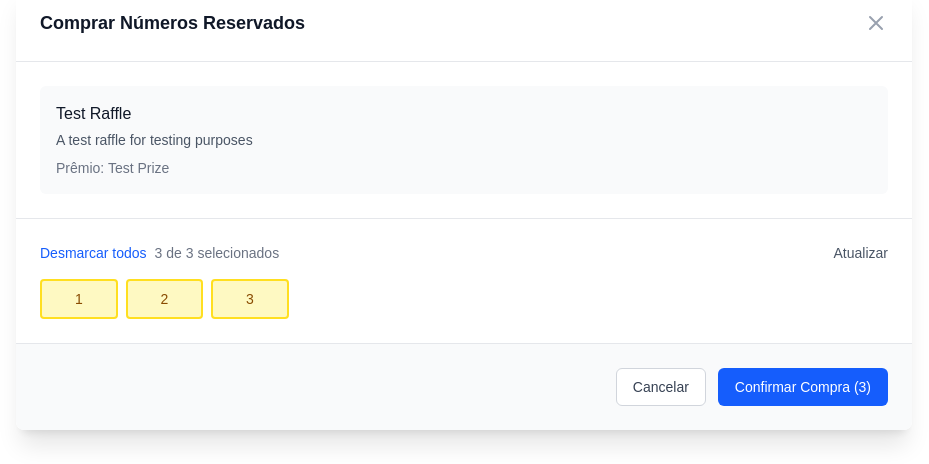
RafflePurchaseModal › should allow deselecting all numbers
Expected: the text "3 de 3 selecionados" is shown, [155, 242, 279, 262]
What coordinates should you click on to do the following:
click the button "Desmarcar todos"
I would click on:
 (93, 252)
Its box is [40, 242, 147, 262].
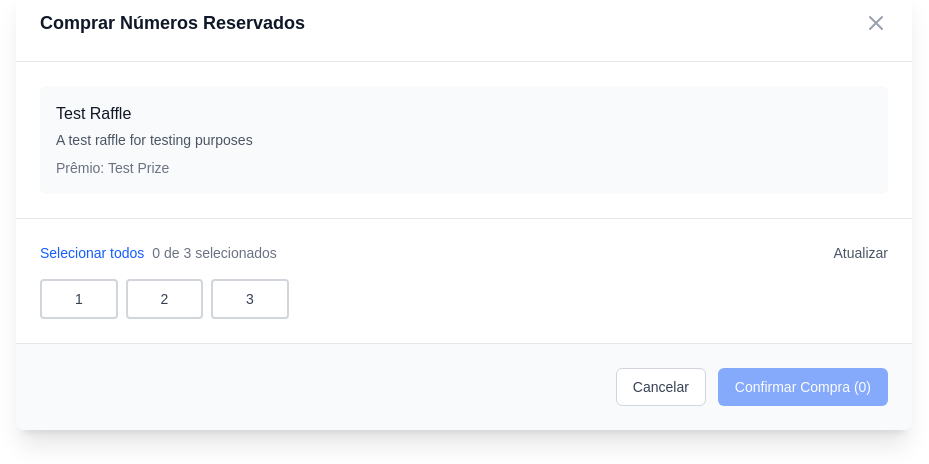
Expected: the text "0 de 3 selecionados" is shown, [152, 242, 277, 262]
Expected: the button "Selecionar todos" is shown, [40, 242, 144, 262]
